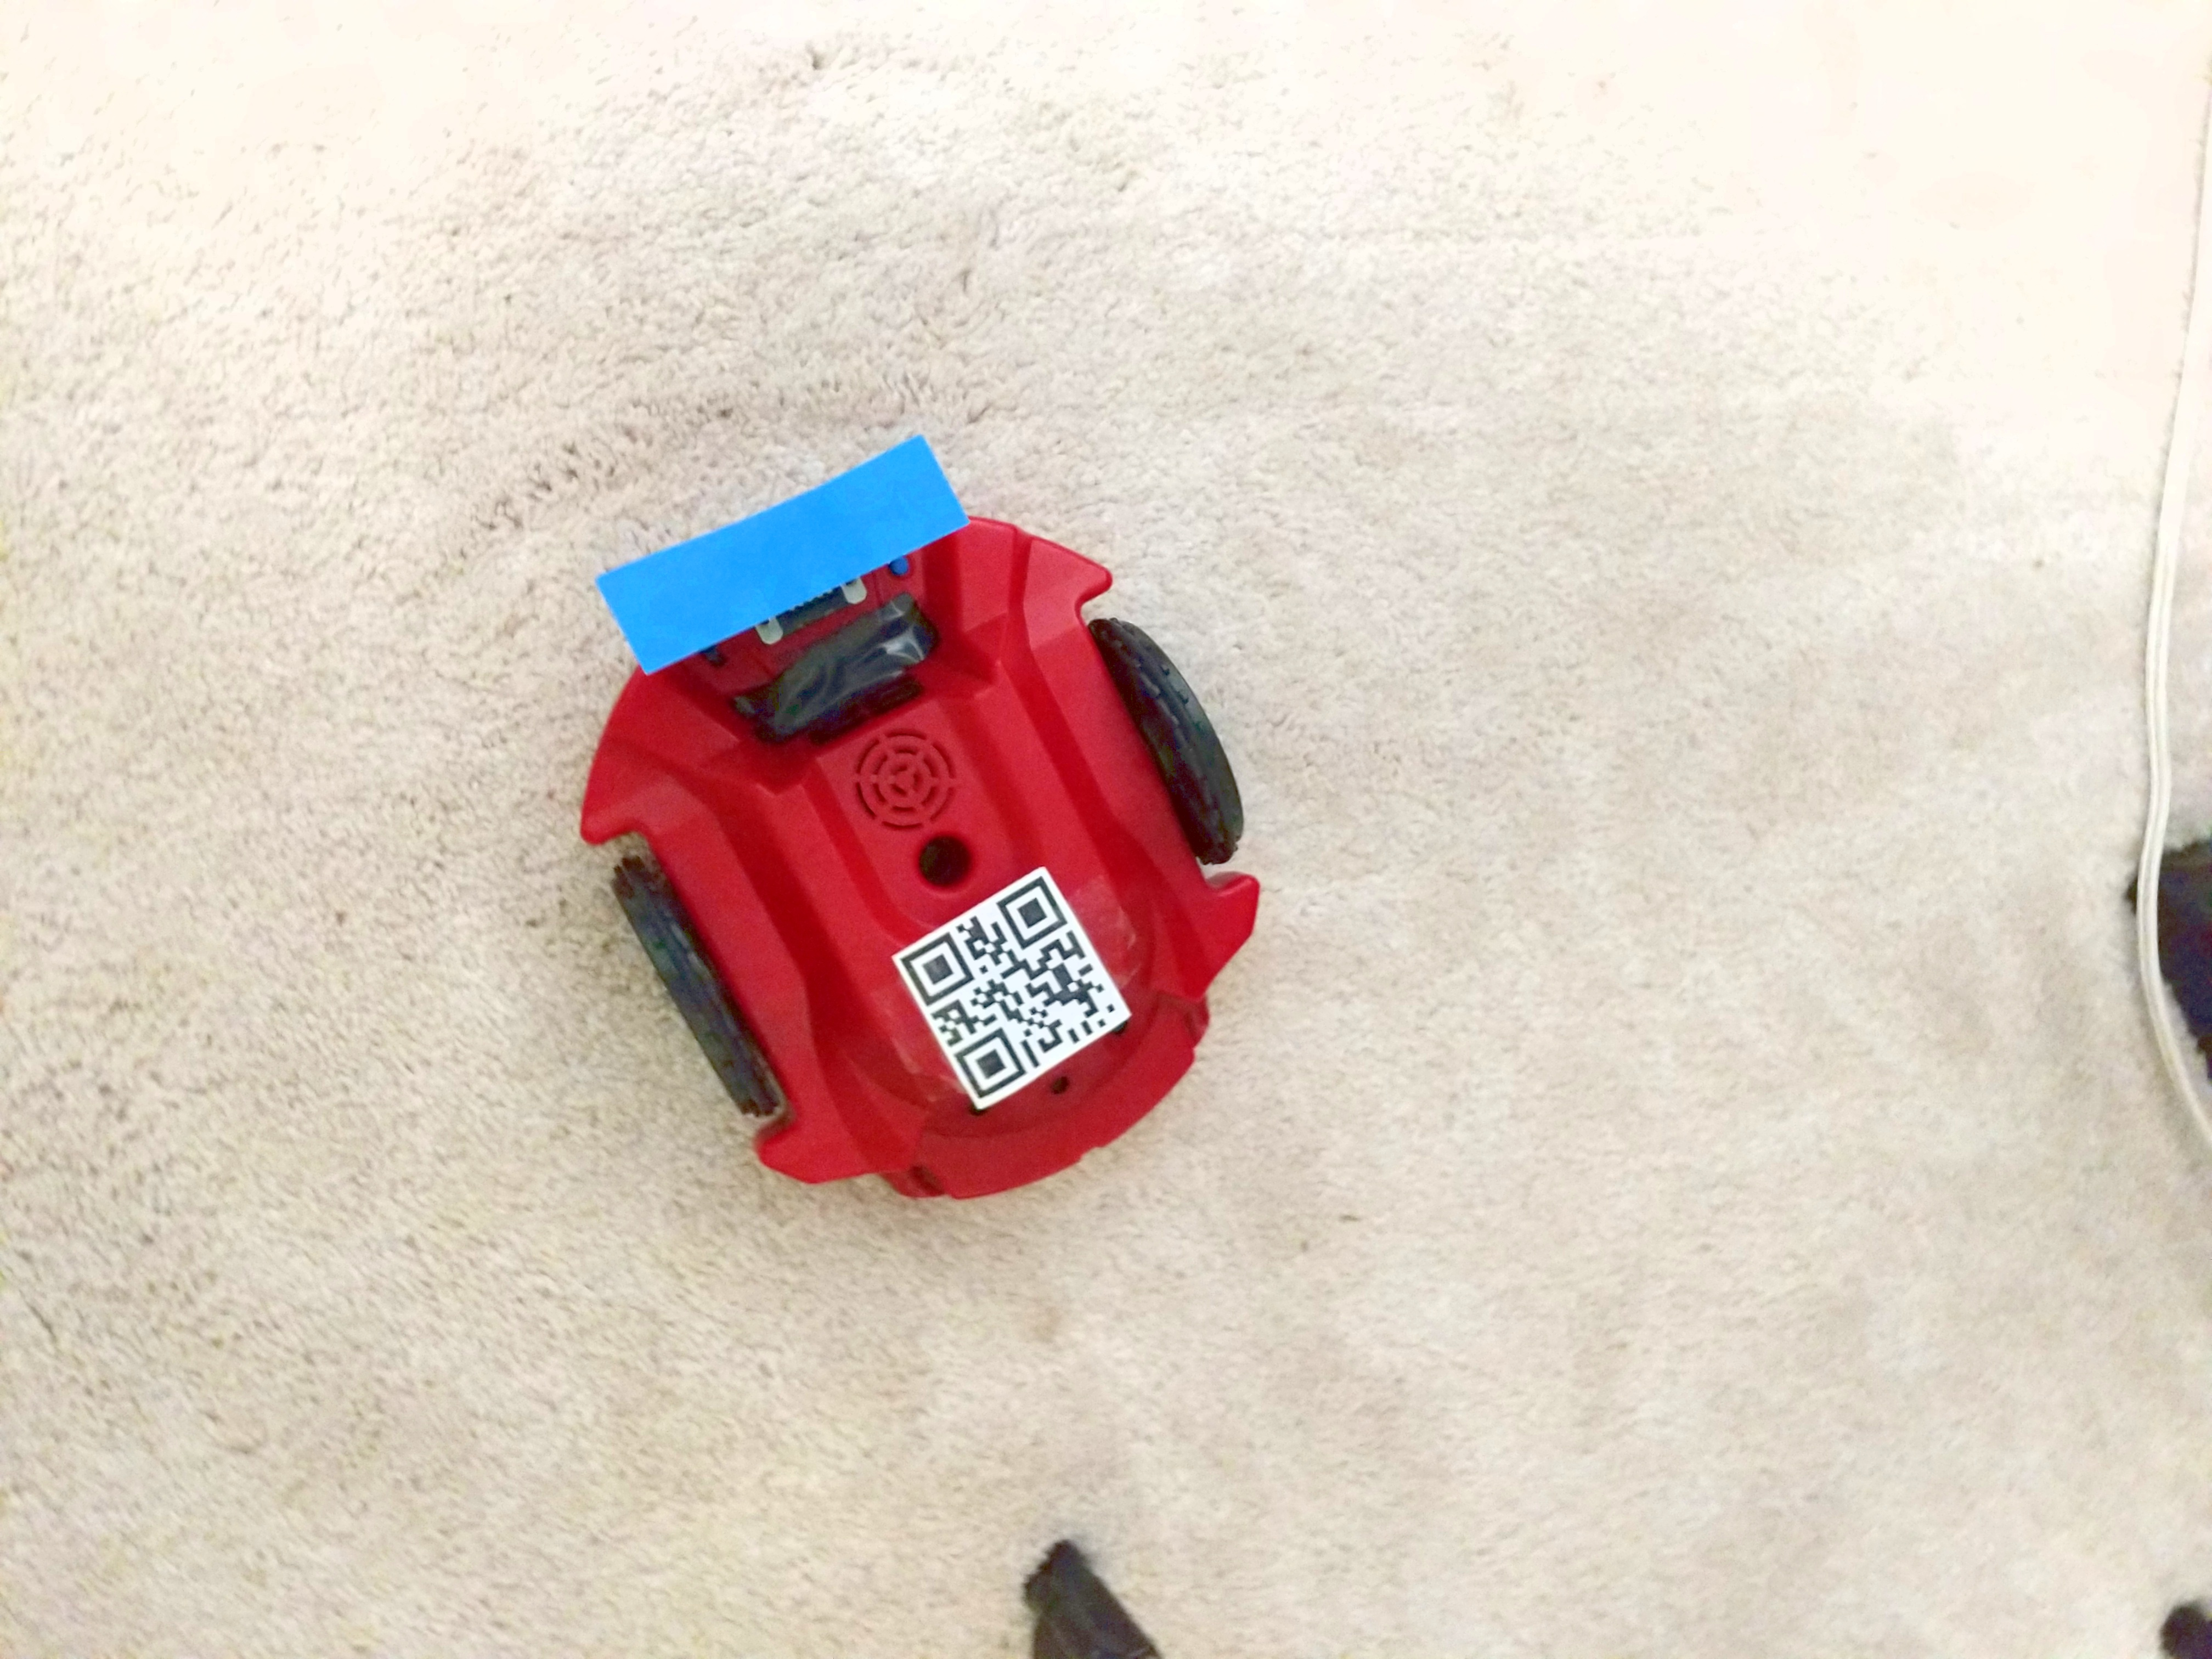board: (1190, 983, 1609, 1220)
chassis: (855, 444, 1703, 1216)
